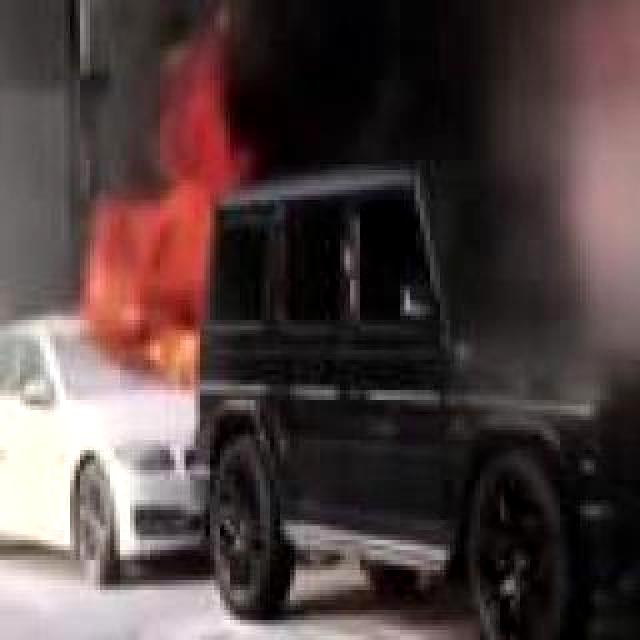fire: (90, 134, 234, 380)
